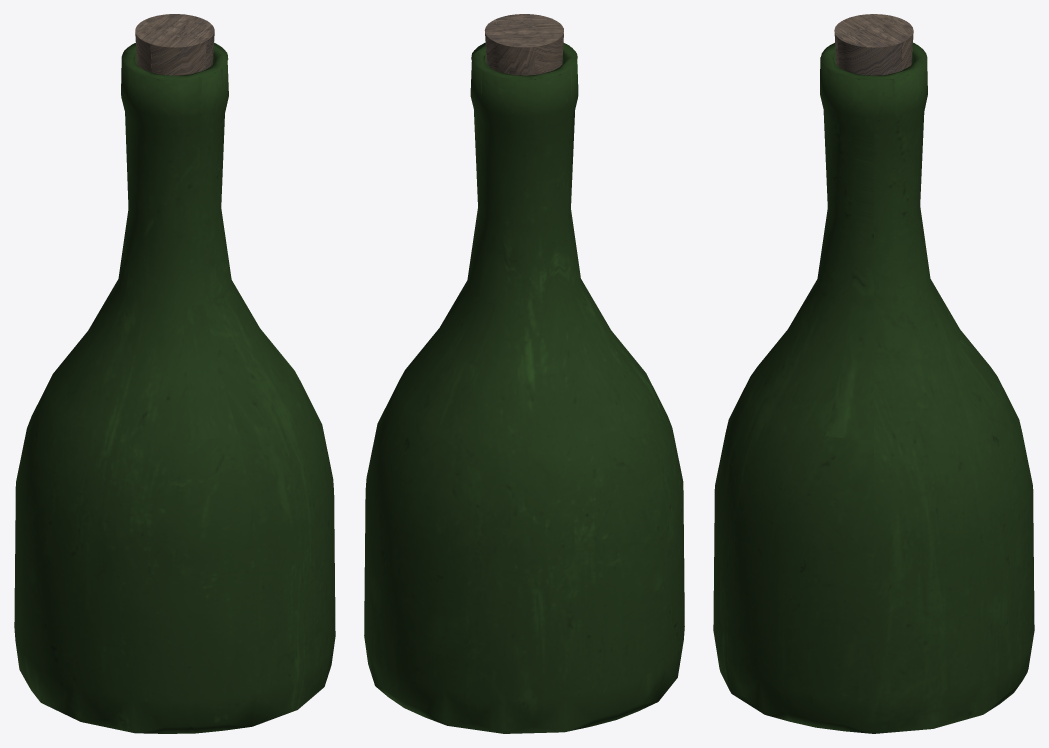
File: green_bottle.glb
3 renders of one model, left to right at view 1: azimuth 30°, elevation 25°; view 2: azimuth 150°, elevation 25°; view 3: azimuth 270°, elevation 25°, orthographic.
Visible parts, largest first — view 1: Bottle_Bottle_0; view 2: Bottle_Bottle_0; view 3: Bottle_Bottle_0.
Boxes of the visible parts, bbox=[...] form: Bottle_Bottle_0: bbox=[14, 14, 335, 733]; Bottle_Bottle_0: bbox=[364, 14, 684, 733]; Bottle_Bottle_0: bbox=[713, 14, 1034, 733].
Bounding box in the file's own units: 0.042 × 0.092 × 0.042.
2 materials, 2 textured.
